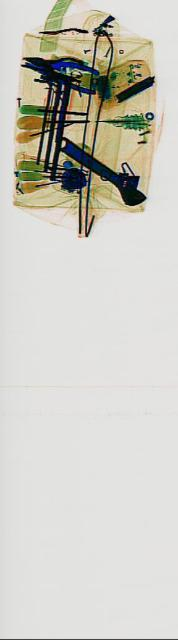Pliers: (20, 44, 81, 86)
Wrench: (57, 122, 145, 216)
